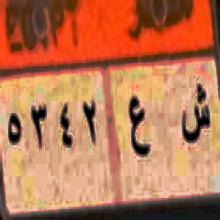2: (81, 97, 100, 151)
3: (32, 99, 50, 153)
4: (54, 101, 74, 157)
5: (6, 109, 24, 159)
ain: (127, 90, 152, 165)
sheen: (182, 81, 209, 154)
